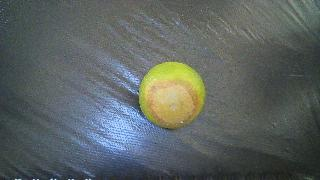DESECHO: (139, 62, 205, 129)
